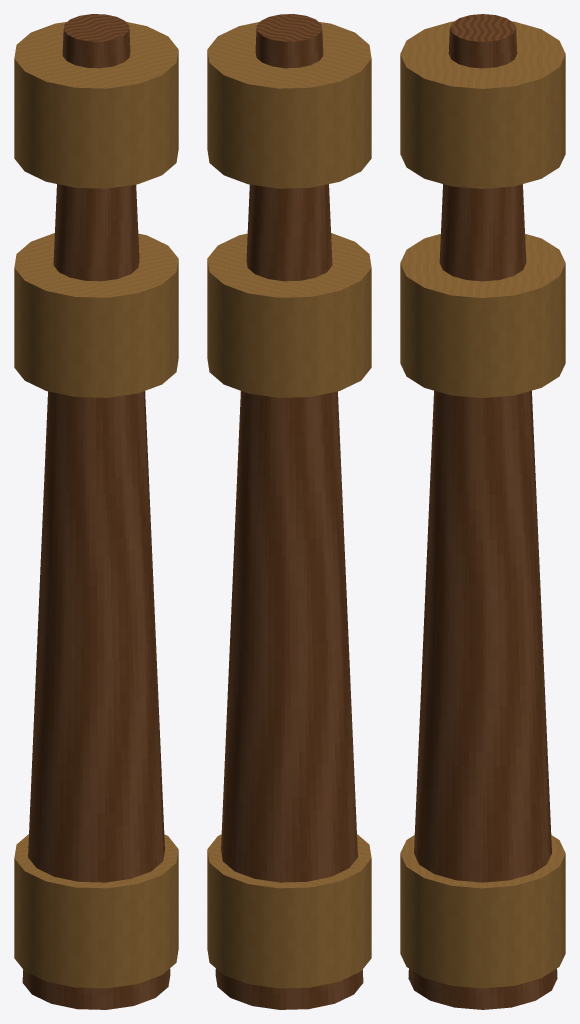
Rendered from wand.lod1.glb.
3 views of the same model, side by side, from view 1: azimuth 30°, elevation 25°; view 2: azimuth 150°, elevation 25°; view 3: azimuth 270°, elevation 25° (orthographic).
Parts seen in each view (by area): view 1: wood.0, brass.3, brass.2, brass.1; view 2: wood.0, brass.3, brass.2, brass.1; view 3: wood.0, brass.3, brass.2, brass.1.
Boxes of the visible parts, x1=… form: wood.0: x1=22, y1=14, x2=170, y2=1009; brass.3: x1=14, y1=22, x2=178, y2=188; brass.2: x1=14, y1=233, x2=178, y2=397; brass.1: x1=14, y1=834, x2=178, y2=988; wood.0: x1=215, y1=14, x2=363, y2=1009; brass.3: x1=207, y1=22, x2=371, y2=188; brass.2: x1=207, y1=233, x2=371, y2=397; brass.1: x1=207, y1=834, x2=371, y2=988; wood.0: x1=408, y1=14, x2=557, y2=1009; brass.3: x1=400, y1=21, x2=565, y2=188; brass.2: x1=400, y1=234, x2=565, y2=397; brass.1: x1=400, y1=835, x2=565, y2=988.
Bounding box in the file's own units: 0.06 × 0.38 × 0.06.
Materials: 2 (2 with a texture image).
